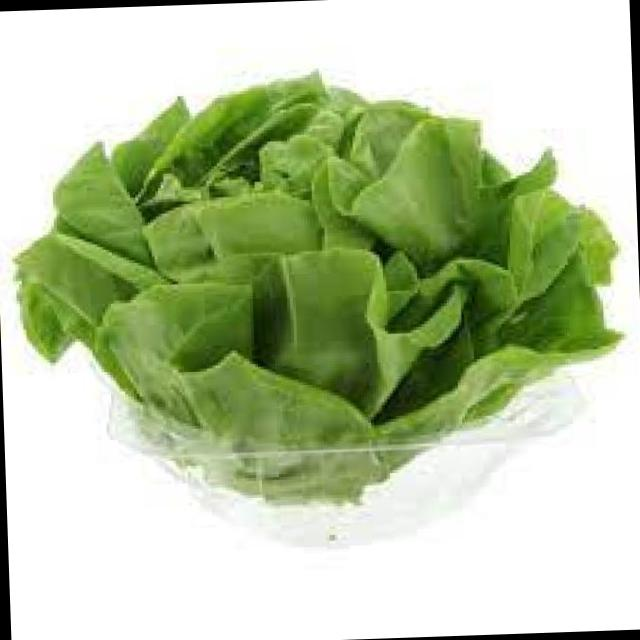Lettuce-Ready-to-Harvest: (16, 74, 616, 499)
